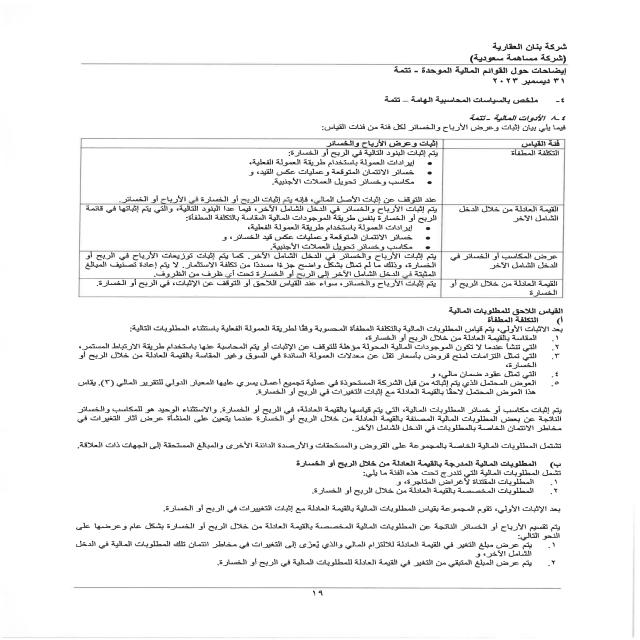notes: (386, 64, 573, 76)
table: (61, 137, 571, 300)
